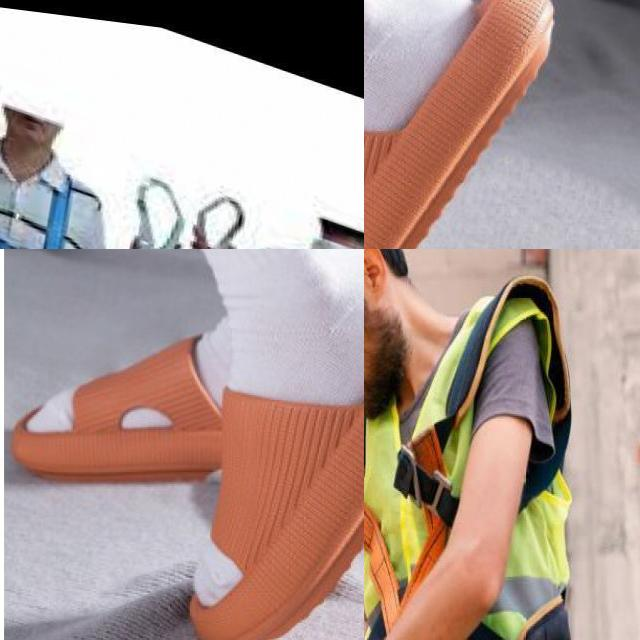Harness: (364, 274, 525, 632)
Sandals: (13, 249, 364, 640), (364, 0, 587, 249)
